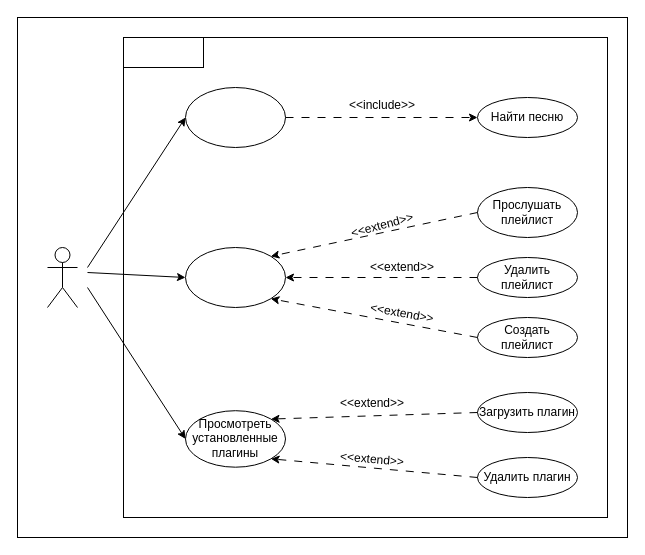
This 645x555 diagram has some shape labels left out. Here are the shapes that lost their labels. From the top down, the centre of each, then its label:
At (x=163, y=52): "Аудиоплеер".
At (x=235, y=117): "Прослушать отдельную композицию".
At (x=62, y=277): "Пользователь ПК".
At (x=235, y=277): "Просмотреть доступные плейлисты".
